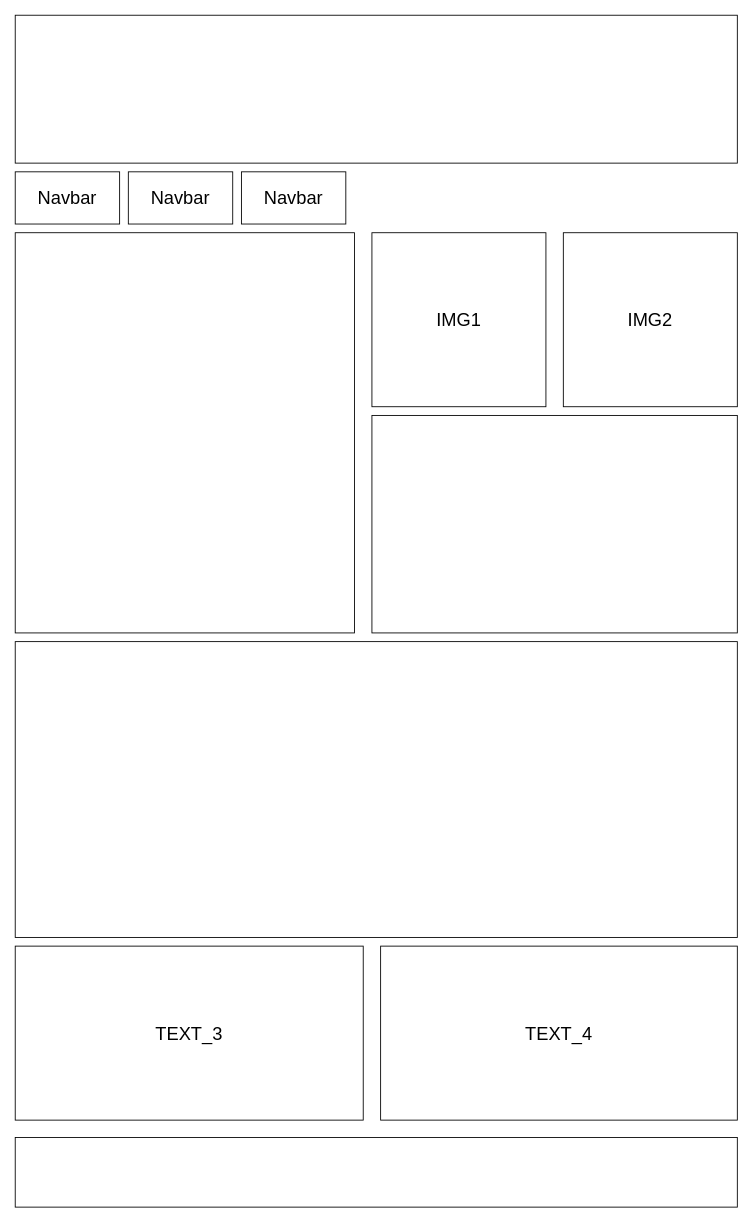
Some shapes in this 753 by 1222 pixel diagram are drawn without their labels. Each missing label, with the centre of its shape:
FOOTER: the point at 375,1172
TEXT_1: the point at 184,432
TEXT_2: the point at 554,524
VID: the point at 375,789
